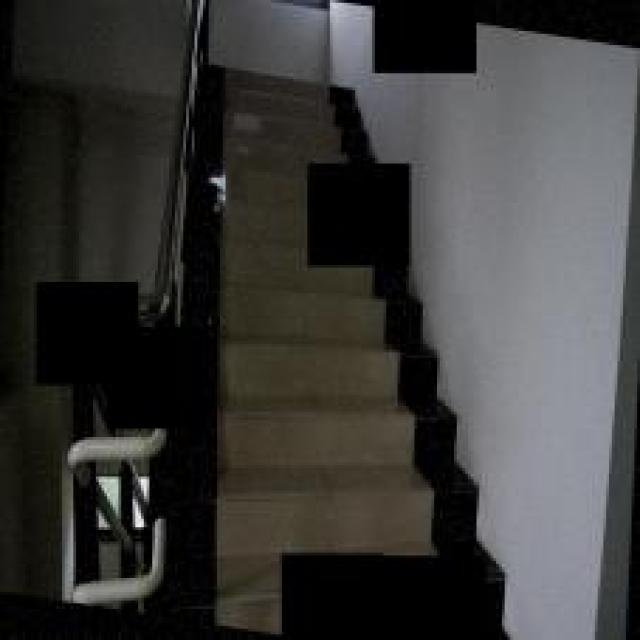upstair: (223, 319, 468, 544)
